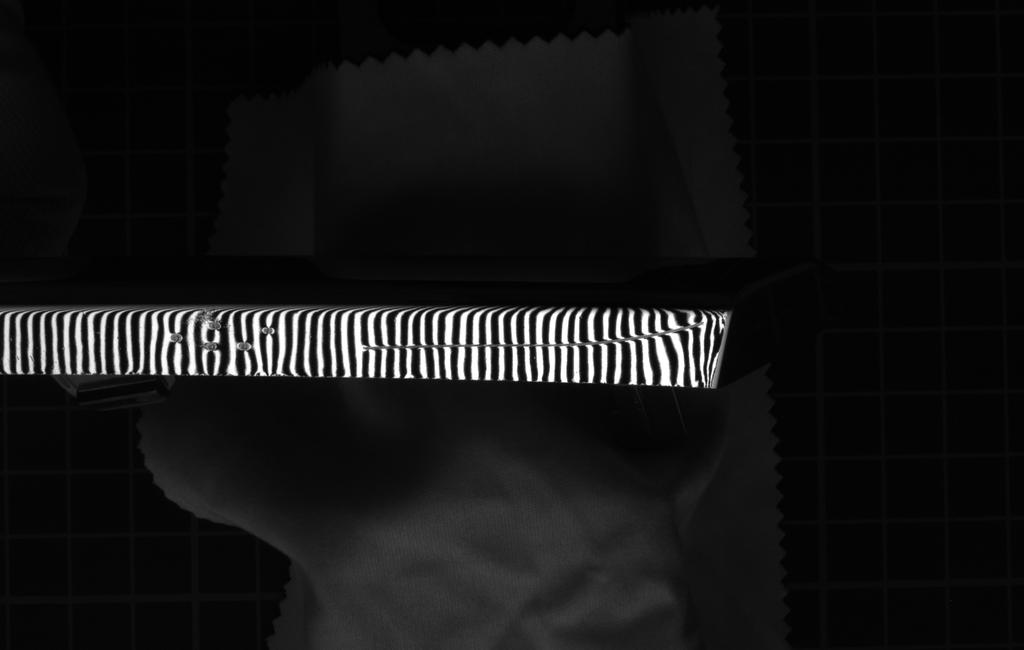Pierced: (160, 325, 189, 348), (205, 316, 228, 334), (259, 322, 280, 341), (232, 339, 255, 356), (199, 340, 224, 355)
Scratch: (362, 315, 709, 356)
